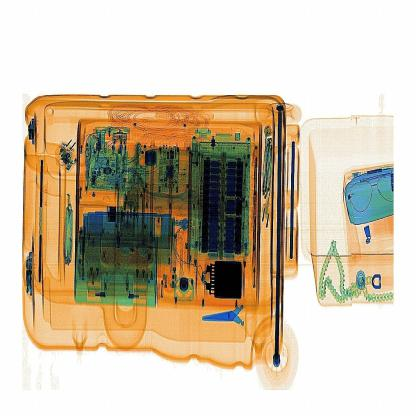gun: (192, 271, 272, 350)
